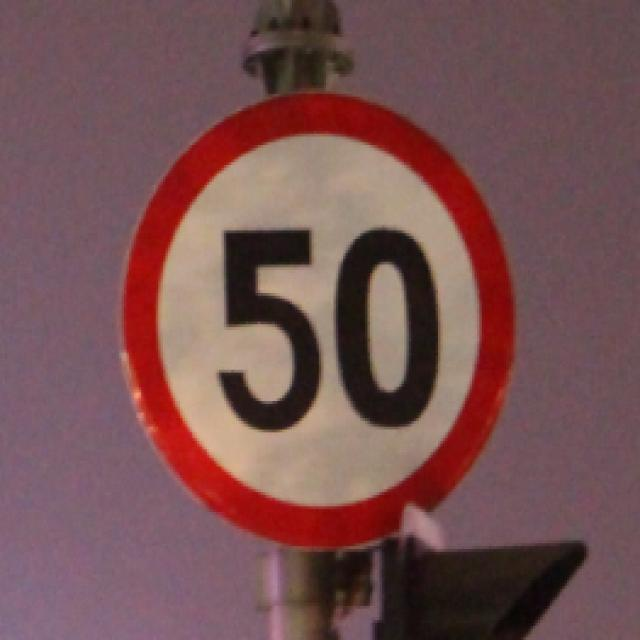Speed: (122, 91, 526, 542)
